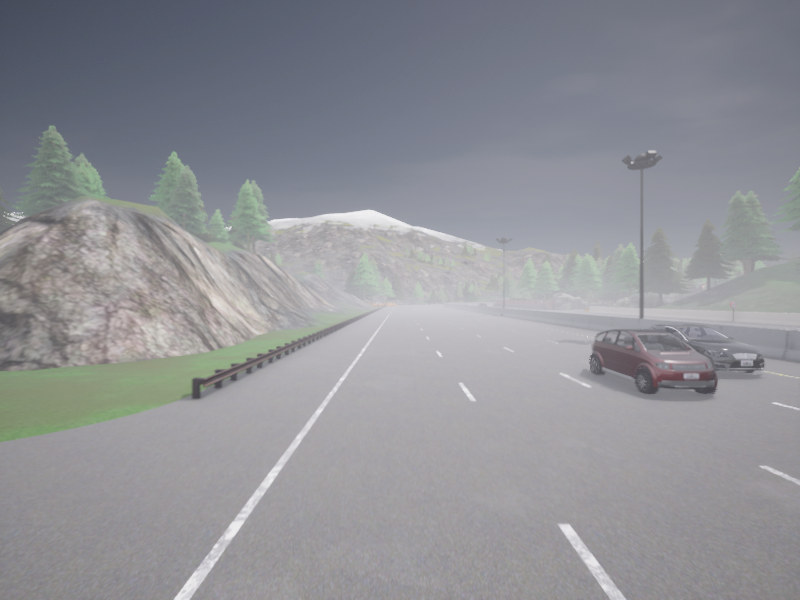vehicle: (589, 329, 717, 394), (645, 323, 764, 372), (477, 303, 486, 306)
